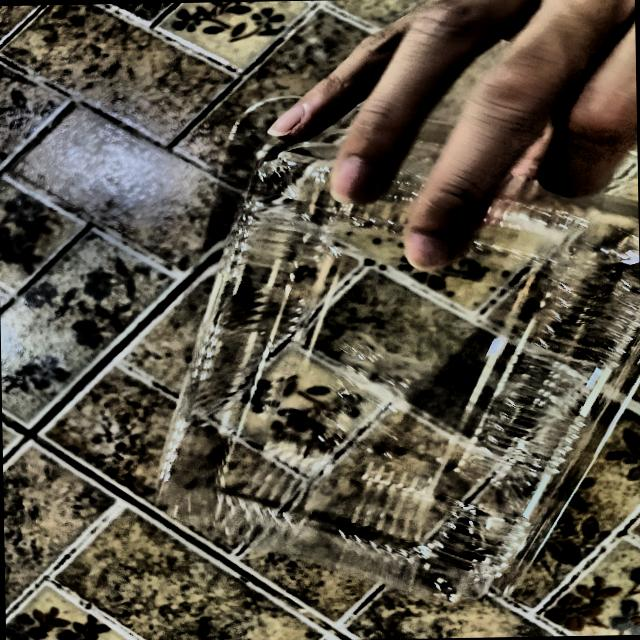plastic container: (103, 80, 640, 607)
